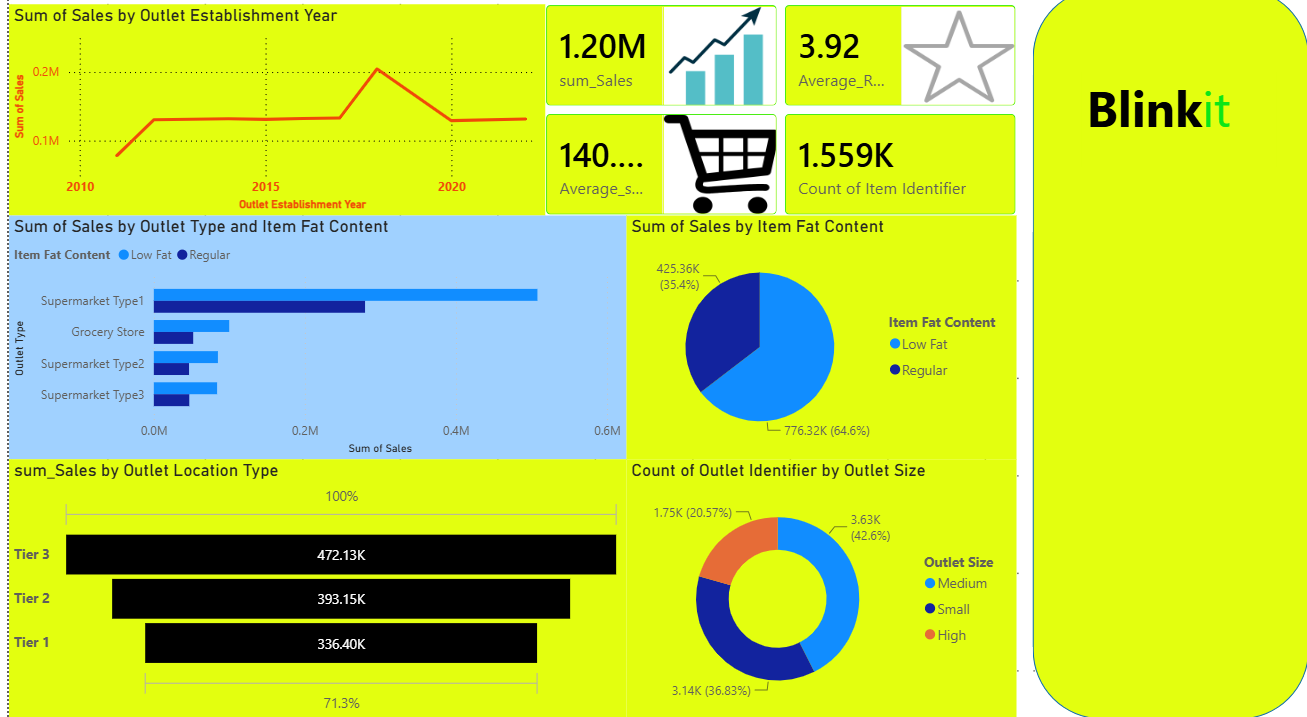

Layout of this report page (visuals, bound fields, positions):
{"tool":"powerbi","page":{"name":"Page 1","canvas":[1280,720],"ordinal":0},"visuals":[{"type":"shape","box":[1008,0,272,720],"z":0},{"type":"textbox","box":[1056,80,192,96],"z":1000},{"type":"cardVisual","fields":{"Data":["BlinkIT-Grocery-Data.sum_Sales","BlinkIT-Grocery-Data.Average_Rating","BlinkIT-Grocery-Data.Average_sales","Count(BlinkIT-Grocery-Data.Item Identifier)"]},"box":[512,0,496,240],"z":2000},{"type":"lineChart","fields":{"Category":["BlinkIT-Grocery-Data.Outlet Establishment Year"],"Y":["Sum(BlinkIT-Grocery-Data.Sales)"]},"box":[0,16,528,208],"z":3000},{"type":"clusteredBarChart","fields":{"Y":["Sum(BlinkIT-Grocery-Data.Sales)"],"Category":["BlinkIT-Grocery-Data.Outlet Type"],"Series":["BlinkIT-Grocery-Data.Item Fat Content"]},"box":[0,224,608,240],"z":4000},{"type":"funnel","fields":{"Category":["BlinkIT-Grocery-Data.Outlet Location Type"],"Y":["BlinkIT-Grocery-Data.sum_Sales"]},"box":[0,464,608,256],"z":5000},{"type":"donutChart","fields":{"Category":["BlinkIT-Grocery-Data.Outlet Size"],"Y":["CountNonNull(BlinkIT-Grocery-Data.Outlet Identifier)"]},"box":[608,464,384,256],"z":6000},{"type":"pieChart","fields":{"Y":["Sum(BlinkIT-Grocery-Data.Sales)"],"Category":["BlinkIT-Grocery-Data.Item Fat Content"]},"box":[608,224,384,240],"z":7000}]}

Visuals, with their boxes in screenshot pixels (x1, y1, x2, y2), scaled from the page's 1280x720 canvas onto the 1307x717 screenshot:
shape: <box>1029,0,1306,716</box>
textbox: <box>1078,80,1274,175</box>
cardVisual - BlinkIT-Grocery-Data.sum_Sales x BlinkIT-Grocery-Data.Average_Rating: <box>523,0,1029,239</box>
lineChart - BlinkIT-Grocery-Data.Outlet Establishment Year x Sum(BlinkIT-Grocery-Data.Sales): <box>0,16,539,223</box>
clusteredBarChart - Sum(BlinkIT-Grocery-Data.Sales) x BlinkIT-Grocery-Data.Outlet Type: <box>0,223,621,462</box>
funnel - BlinkIT-Grocery-Data.Outlet Location Type x BlinkIT-Grocery-Data.sum_Sales: <box>0,462,621,716</box>
donutChart - BlinkIT-Grocery-Data.Outlet Size x CountNonNull(BlinkIT-Grocery-Data.Outlet Identifier): <box>621,462,1013,716</box>
pieChart - Sum(BlinkIT-Grocery-Data.Sales) x BlinkIT-Grocery-Data.Item Fat Content: <box>621,223,1013,462</box>
